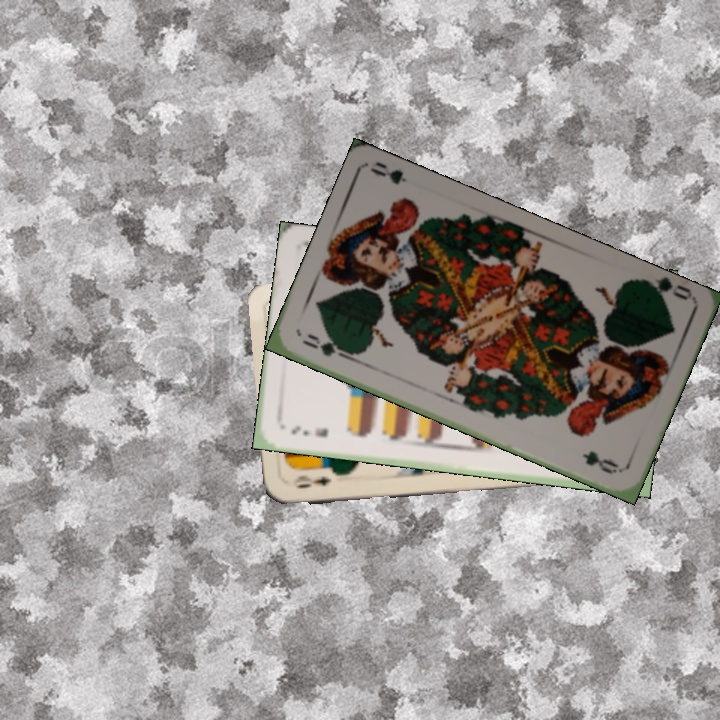E7: (287, 421, 331, 441)
EO: (288, 472, 333, 491)
GO: (636, 274, 695, 308), (298, 330, 354, 363)
